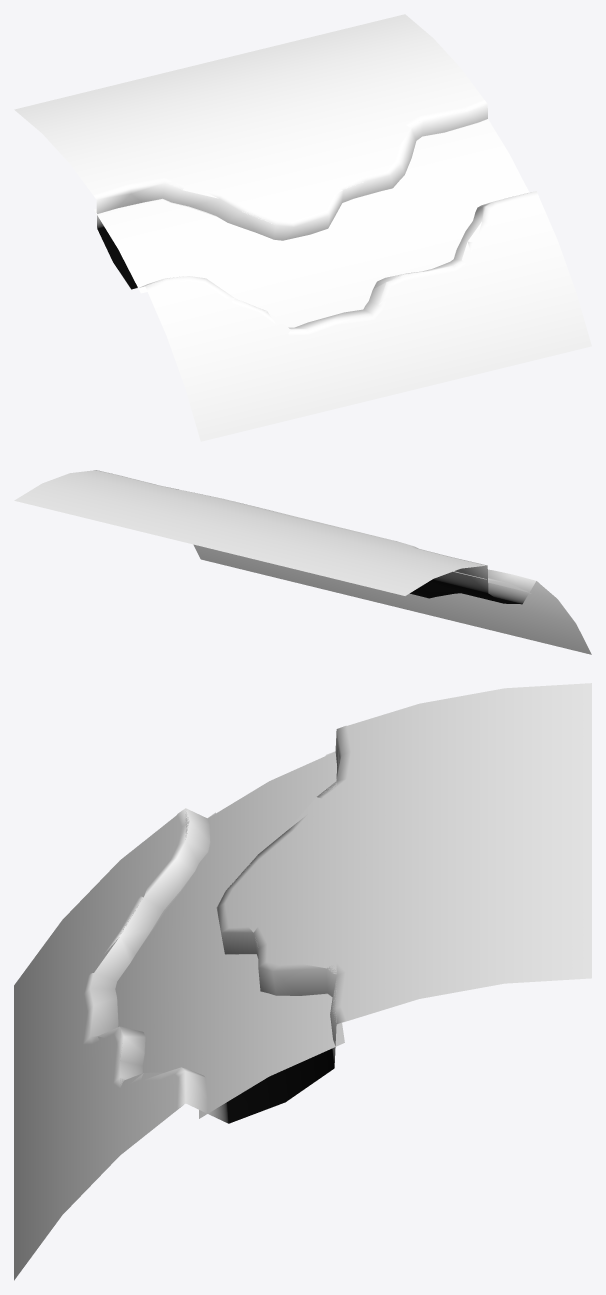
File: grd_Rw_2.dae
3 renders of one model, top to bottom at view 1: azimuth 30°, elevation 25°; view 2: azimuth 150°, elevation 25°; view 3: azimuth 270°, elevation 25°, orthographic. The views are drawn at different scales.
Parts seen in each view (by area): view 1: grd_Rw_2; view 2: grd_Rw_2; view 3: grd_Rw_2.
Boxes of the visible parts, x1,y1,x2,y2 form: grd_Rw_2: (14,14,591,441); grd_Rw_2: (14,470,591,654); grd_Rw_2: (14,683,591,1280).
Bounding box in the file's own units: 512 × 244 × 423.
4 materials, 1 textured.
